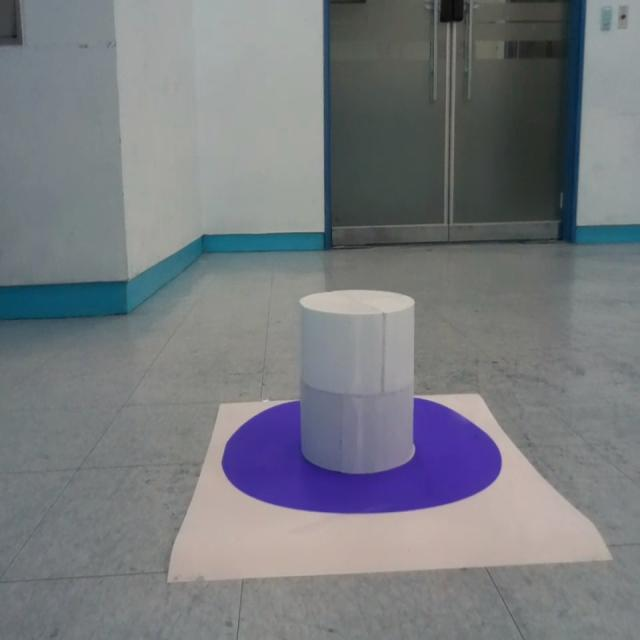cylinder: (298, 289, 416, 474)
